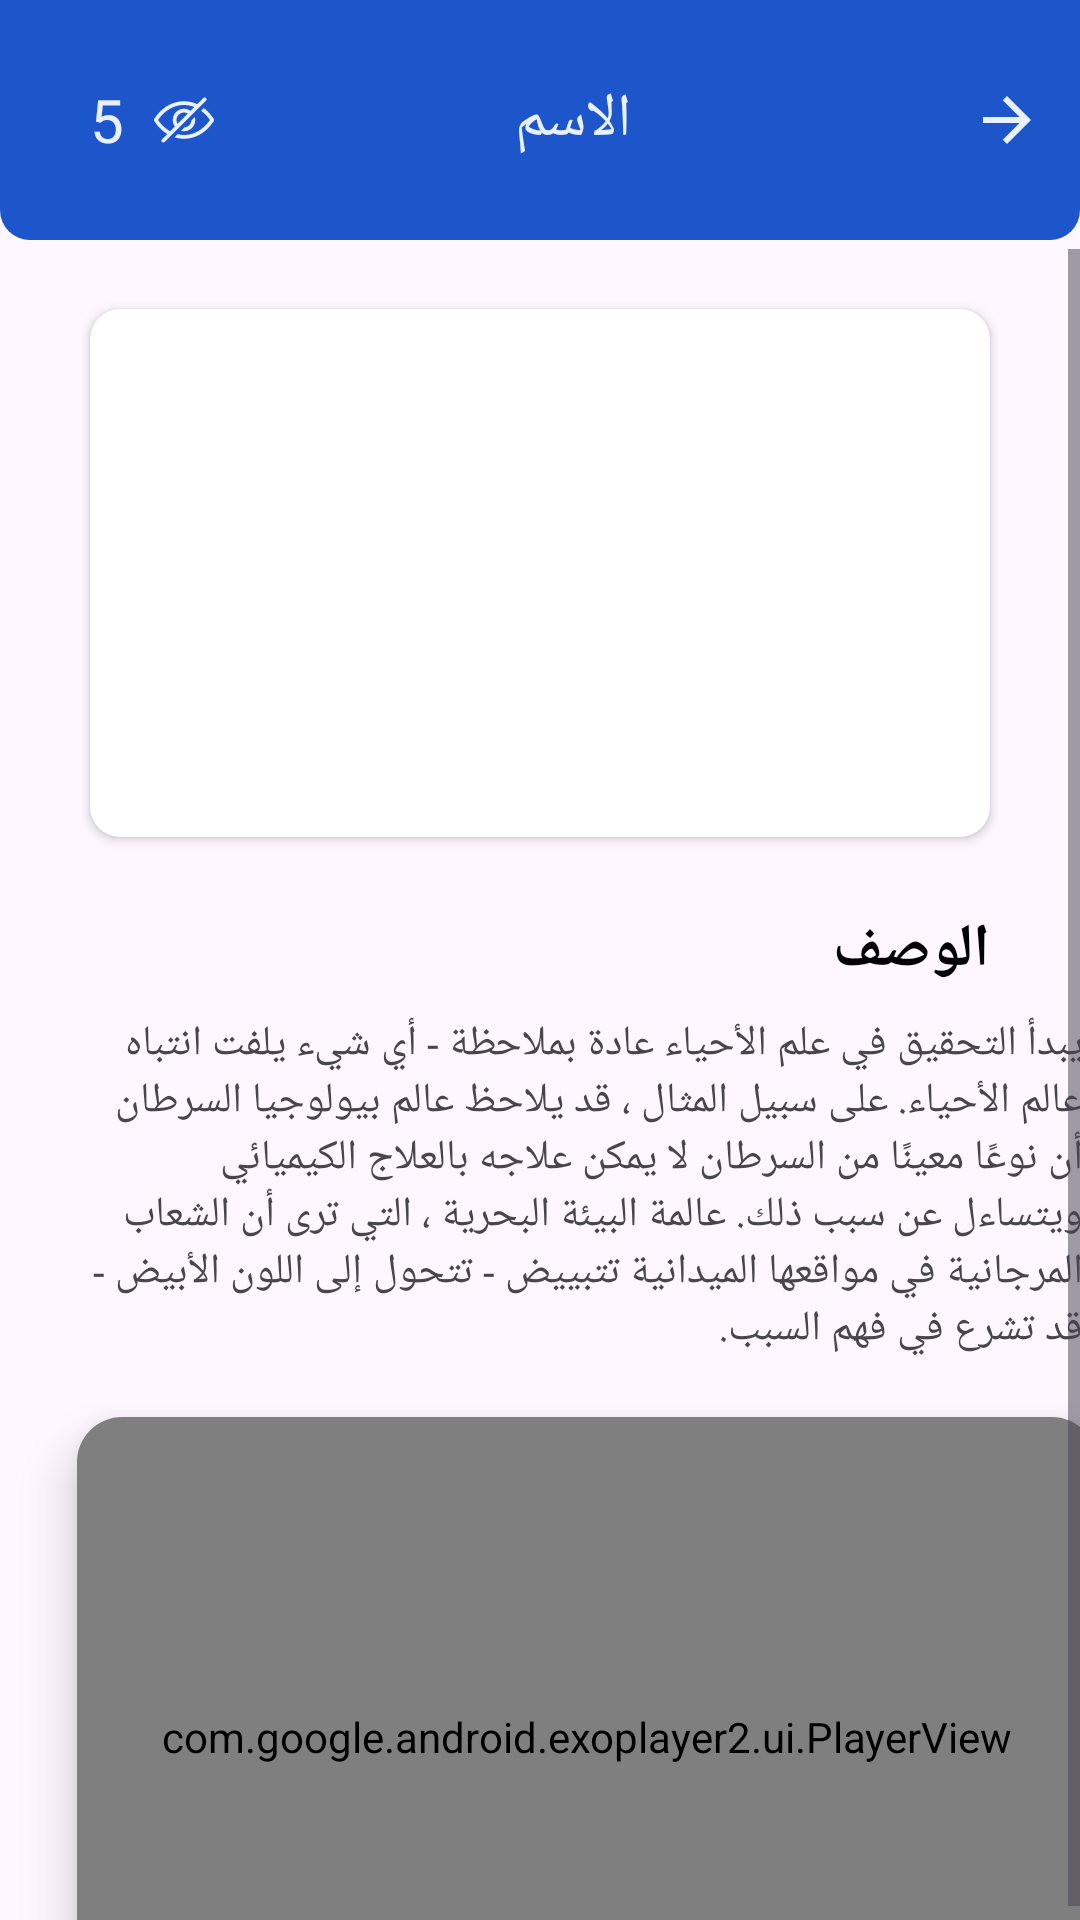

Icons on this 1080px×1920px Android screen, each with its box as {"left": x1, "top": y1, "right": x2, "bottom": y2}:
hidden: {"left": 154, "top": 97, "right": 214, "bottom": 143}
